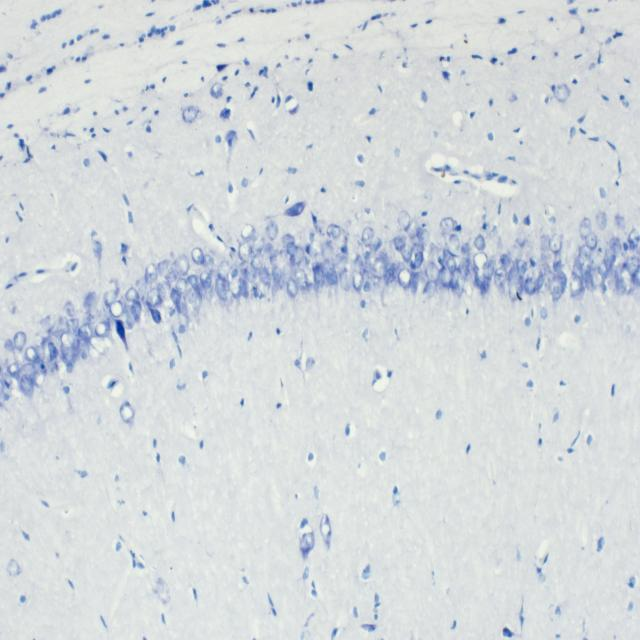neuron: (88, 333, 114, 354), (590, 243, 606, 270), (60, 341, 77, 366), (228, 270, 242, 299), (451, 268, 465, 296), (19, 374, 35, 398), (120, 401, 136, 425), (311, 262, 325, 289), (173, 254, 190, 276), (508, 279, 524, 302), (28, 369, 47, 388), (620, 264, 632, 294), (285, 200, 306, 217), (474, 268, 490, 290), (76, 338, 91, 361), (40, 313, 57, 333), (170, 287, 182, 315), (145, 262, 158, 287), (482, 255, 495, 280), (216, 277, 230, 300), (569, 274, 583, 297), (407, 218, 422, 239), (425, 261, 440, 282), (548, 233, 563, 254), (499, 277, 512, 301), (397, 210, 411, 232), (551, 275, 562, 303), (603, 248, 617, 270), (289, 246, 305, 265), (16, 364, 36, 379), (1, 372, 14, 395), (556, 266, 567, 293), (398, 268, 412, 289), (494, 267, 508, 288), (464, 269, 474, 298), (258, 243, 274, 261), (339, 268, 351, 292), (628, 227, 640, 251), (579, 218, 592, 240), (372, 257, 387, 276), (507, 244, 522, 263), (146, 288, 160, 308), (238, 242, 252, 262), (416, 226, 430, 246), (352, 269, 364, 292), (627, 255, 639, 278), (13, 330, 26, 351), (217, 260, 230, 281), (322, 257, 335, 278), (308, 240, 324, 257), (326, 223, 341, 241), (473, 252, 488, 270), (123, 308, 135, 330), (130, 302, 142, 324), (266, 219, 278, 241), (440, 266, 452, 288), (516, 226, 528, 248), (580, 262, 592, 284), (67, 330, 80, 350), (361, 227, 374, 247), (60, 331, 75, 348), (94, 321, 111, 336), (423, 281, 438, 298), (91, 239, 102, 262), (78, 322, 92, 340), (109, 300, 123, 318), (241, 224, 255, 242), (334, 252, 348, 270), (440, 217, 454, 235), (458, 256, 470, 277), (516, 258, 528, 279), (596, 211, 608, 232), (125, 286, 140, 302), (200, 270, 212, 290), (205, 287, 217, 307), (400, 244, 412, 264), (24, 346, 38, 363), (250, 253, 264, 270), (609, 237, 623, 254), (410, 272, 420, 295), (148, 307, 162, 323), (258, 270, 272, 286), (191, 247, 204, 264), (244, 265, 257, 282), (578, 245, 591, 262), (287, 278, 298, 298), (427, 242, 438, 262), (446, 255, 457, 275), (524, 277, 535, 297), (176, 277, 188, 295), (202, 254, 214, 272), (586, 233, 598, 251), (614, 213, 626, 231), (584, 274, 596, 292), (157, 282, 167, 303), (187, 285, 198, 304), (104, 290, 117, 306), (165, 268, 178, 284), (326, 270, 339, 286), (535, 270, 544, 293), (187, 274, 199, 291), (253, 235, 265, 252), (448, 233, 460, 250), (240, 279, 250, 299), (272, 266, 282, 286), (4, 338, 15, 356), (474, 234, 485, 252), (509, 264, 520, 282), (293, 268, 307, 282), (63, 301, 75, 317), (157, 260, 169, 276), (394, 235, 406, 251), (49, 342, 59, 361), (136, 276, 146, 295), (598, 258, 608, 277), (164, 306, 175, 323), (413, 251, 424, 268), (282, 233, 296, 246), (36, 343, 45, 362), (282, 264, 291, 283), (632, 265, 640, 286), (85, 292, 96, 307), (437, 247, 446, 265), (575, 255, 585, 271), (40, 336, 53, 348), (287, 243, 299, 256), (8, 362, 19, 376), (354, 254, 364, 269), (373, 237, 383, 252), (371, 273, 381, 288), (297, 278, 308, 290), (499, 254, 510, 266), (239, 261, 249, 273), (460, 243, 470, 255), (70, 318, 79, 331), (412, 243, 425, 252), (382, 272, 390, 286), (540, 306, 548, 320), (386, 264, 394, 277), (264, 256, 271, 270), (363, 281, 371, 293), (254, 285, 260, 299), (343, 230, 349, 243), (272, 249, 278, 261), (524, 317, 531, 326), (3, 394, 10, 402)
